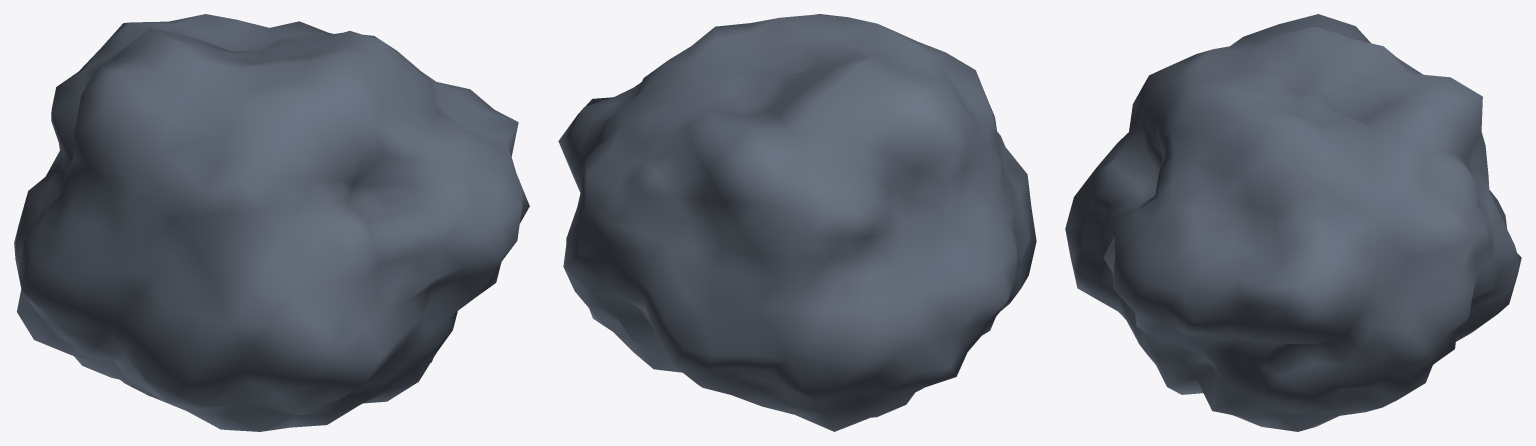
The model's file is asteroid_05.glb.
3 renders of one model, left to right at view 1: azimuth 30°, elevation 25°; view 2: azimuth 150°, elevation 25°; view 3: azimuth 270°, elevation 25°, orthographic. The views are drawn at different scales.
Visible parts, largest first — view 1: Asteroid_05; view 2: Asteroid_05; view 3: Asteroid_05.
Part boxes in pixels (x1,y1,x2,y2): Asteroid_05: [14, 14, 529, 431]; Asteroid_05: [558, 14, 1036, 431]; Asteroid_05: [1065, 14, 1521, 431].
Bounding box in the file's own units: 2.34 × 1.73 × 2.15.
